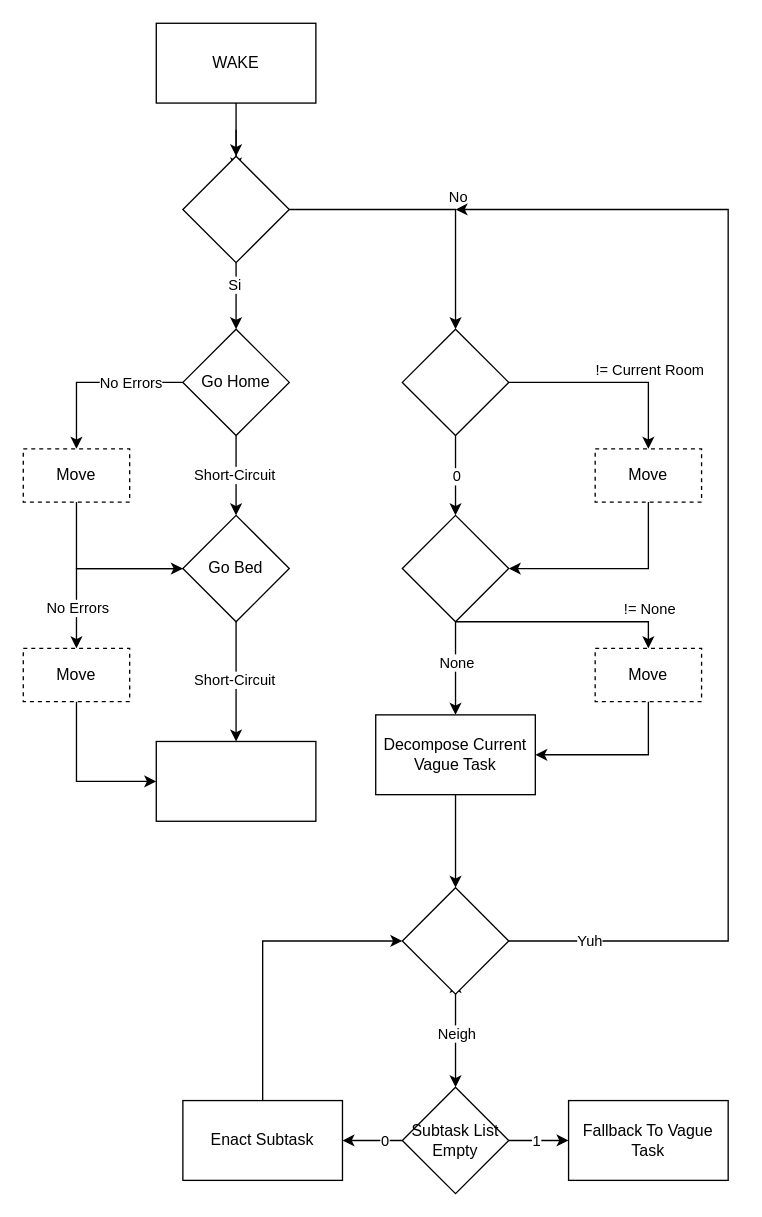
The diagram is 762 pixels wide and 1217 high, and some of its shapes have lost their labels. Here are the shapes that lost their labels. From the top down, the centre of each, then its label:
point (235, 209): If All ActionBares Complete
point (455, 382): Decide Room
point (455, 568): Decide Object
point (235, 780): SLEEP
point (455, 940): Current Vague Task Done
